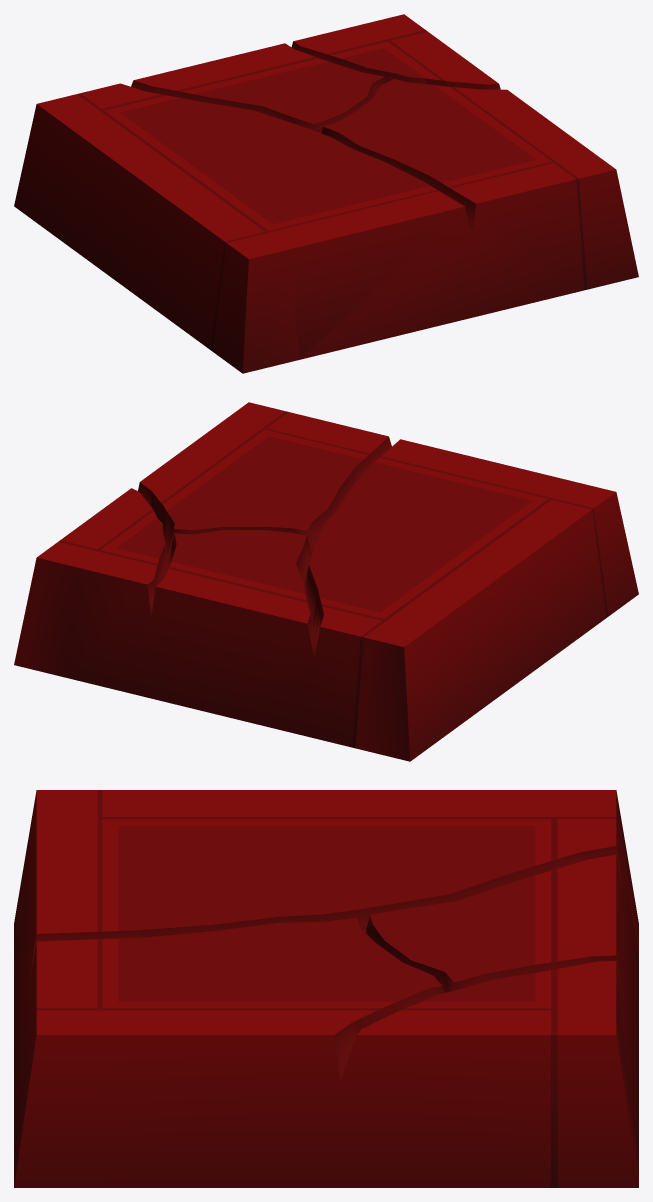
Rendered from geology-landforms-citysidewalktile_v3.fbx.
3 renders of one model, top to bottom at view 1: azimuth 30°, elevation 25°; view 2: azimuth 150°, elevation 25°; view 3: azimuth 270°, elevation 25°, orthographic. The views are drawn at different scales.
Parts seen in each view (by area): view 1: CitySidewalkTile_v3; view 2: CitySidewalkTile_v3; view 3: CitySidewalkTile_v3.
Boxes of the visible parts, <box> form: CitySidewalkTile_v3: <box>14,14,638,373</box>; CitySidewalkTile_v3: <box>14,402,638,761</box>; CitySidewalkTile_v3: <box>14,790,638,1187</box>.
Size of the model in its own units: 9.08 by 2.67 by 9.08.
